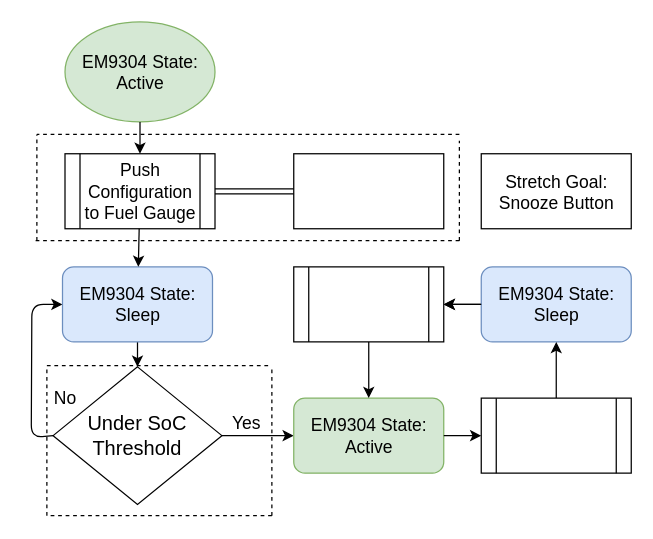
This 653x539 diagram has some shape labels left out. The shapes that lost their labels are listed below. From the top down, each one's centre as x and y in pixels, then its label:
At (368,190): "I2C Program with Battery Characteristics".
At (368,304): "Wait 2s (0.5 Hz)".
At (555,435): "Send Bluetooth Packet".
